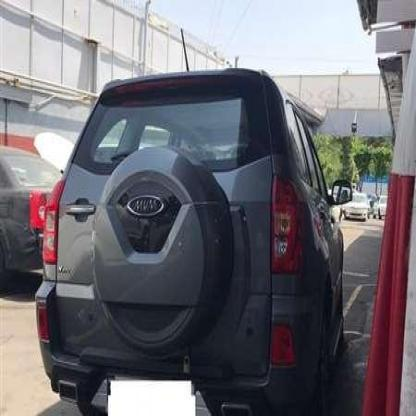Car: (41, 59, 347, 416), (0, 147, 68, 305), (346, 190, 372, 221), (371, 188, 391, 224)
